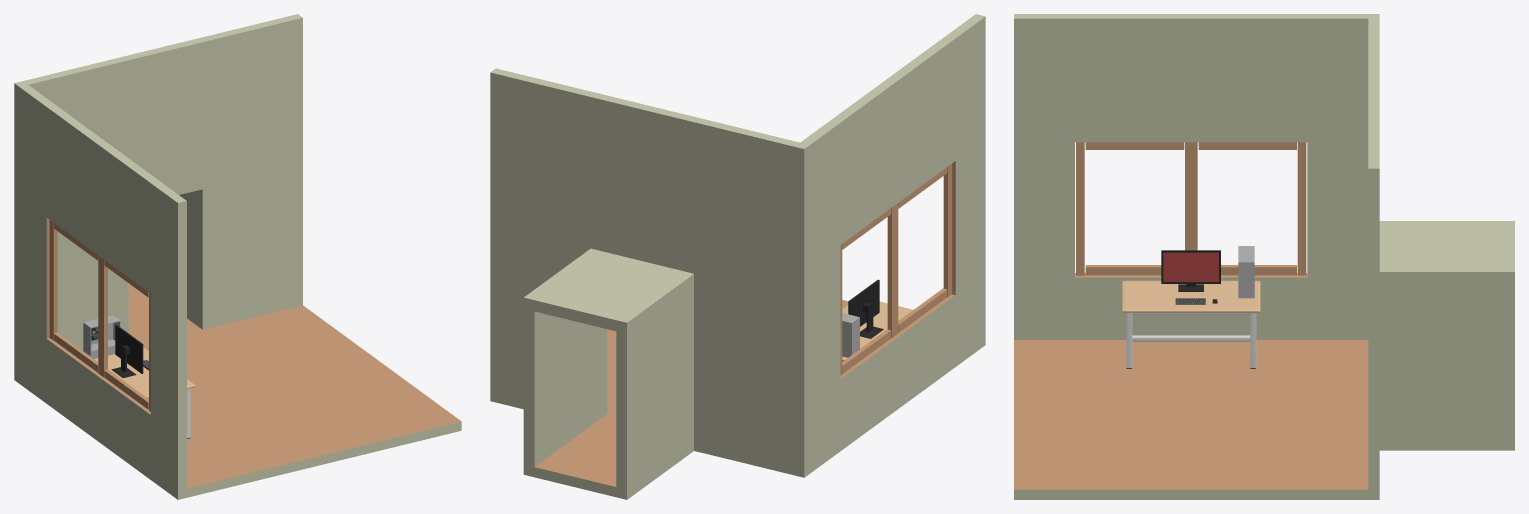
File: Room.glb
3 renders of one model, left to right at view 1: azimuth 30°, elevation 25°; view 2: azimuth 150°, elevation 25°; view 3: azimuth 270°, elevation 25°, orthographic. The views are drawn at different scales.
Parts seen in each view (by area): view 1: Walls, Window, Monitor, Desk, ComputerCase; view 2: Walls, Window, Monitor, ComputerCase, Desk; view 3: Walls, Window, Desk, Screen, ComputerCase, Monitor.
Part boxes in pixels (x1,y1,x2,y2): Walls: (14, 14, 461, 499); Window: (49, 220, 150, 411); Monitor: (111, 324, 143, 377); Desk: (94, 347, 195, 438); ComputerCase: (83, 315, 120, 358); Walls: (490, 14, 985, 499); Window: (840, 163, 952, 375); Monitor: (848, 279, 883, 338); ComputerCase: (842, 313, 859, 357); Desk: (842, 301, 913, 361); Walls: (1014, 14, 1514, 499); Window: (1076, 142, 1306, 275); Desk: (1122, 280, 1260, 368); Screen: (1163, 252, 1218, 281); ComputerCase: (1238, 246, 1254, 298); Monitor: (1161, 250, 1220, 291).
Size of the model in its own units: 8.74 by 8.74 by 11.96.
